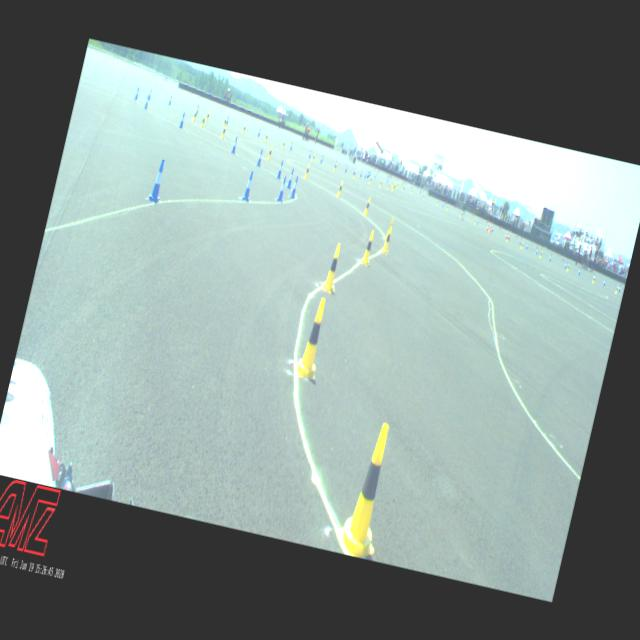blue_cone: (146, 158, 168, 204), (240, 170, 255, 203), (276, 175, 288, 202), (289, 175, 300, 199), (286, 166, 295, 188), (255, 147, 264, 167), (276, 159, 284, 179), (230, 136, 238, 154), (178, 112, 186, 128), (142, 94, 150, 110), (134, 86, 140, 100), (194, 104, 200, 115), (318, 154, 324, 164), (147, 89, 152, 100), (168, 94, 172, 106), (308, 149, 312, 159), (576, 267, 580, 276), (602, 278, 606, 286), (352, 166, 356, 174), (344, 164, 348, 172), (256, 128, 260, 136), (548, 253, 552, 261), (564, 260, 568, 268), (289, 142, 293, 150), (534, 248, 538, 255), (617, 285, 621, 292), (359, 170, 362, 177), (525, 242, 528, 248), (226, 115, 228, 124)
large_orange_cone: (486, 220, 490, 232), (489, 222, 493, 232), (504, 228, 508, 238), (508, 230, 512, 240)
yellow_cone: (333, 418, 401, 560), (294, 295, 332, 380), (320, 242, 344, 294), (359, 229, 376, 266), (380, 226, 392, 254), (384, 217, 393, 240), (362, 196, 372, 216), (336, 180, 344, 198), (303, 162, 310, 178), (266, 145, 273, 161), (191, 108, 198, 121), (200, 114, 206, 128), (221, 124, 226, 138), (205, 110, 210, 122), (310, 152, 316, 162), (263, 132, 268, 142), (352, 168, 357, 178), (241, 124, 246, 134), (222, 116, 226, 127), (333, 161, 337, 172), (378, 178, 382, 188), (614, 285, 618, 294), (565, 263, 569, 272), (538, 250, 542, 259), (281, 140, 285, 148), (591, 276, 595, 284), (368, 176, 372, 184), (386, 182, 390, 190), (519, 241, 523, 249)
